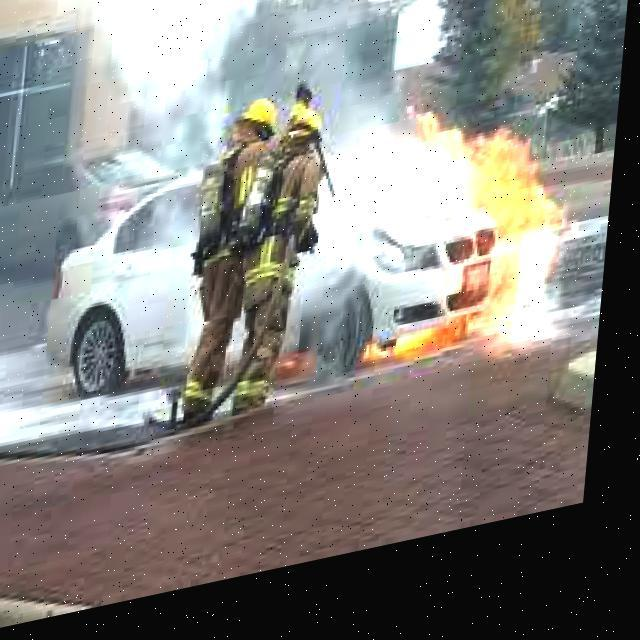Fire: (378, 84, 594, 396)
